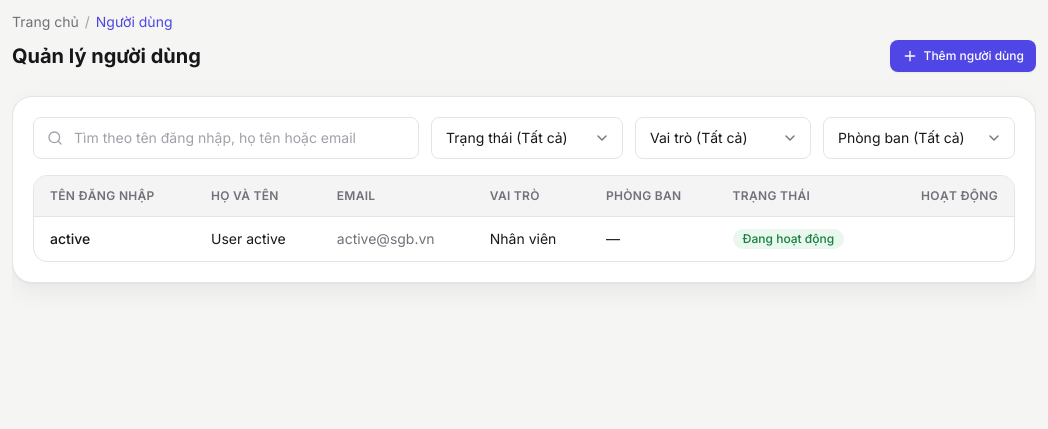
Test case: Dọn thùng rác (Admin, đang lọc "Đã xóa"): xoá vĩnh viễn toàn bộ người dùng đang hiển thị
This screenshot has width=1048, height=429.
Check: the text "active" is shown, box x1=50 y1=230 x2=90 y2=247
Step 1. Select "Đã xóa" in the 1st dropdown → (527, 138), box x1=431 y1=117 x2=623 y2=159
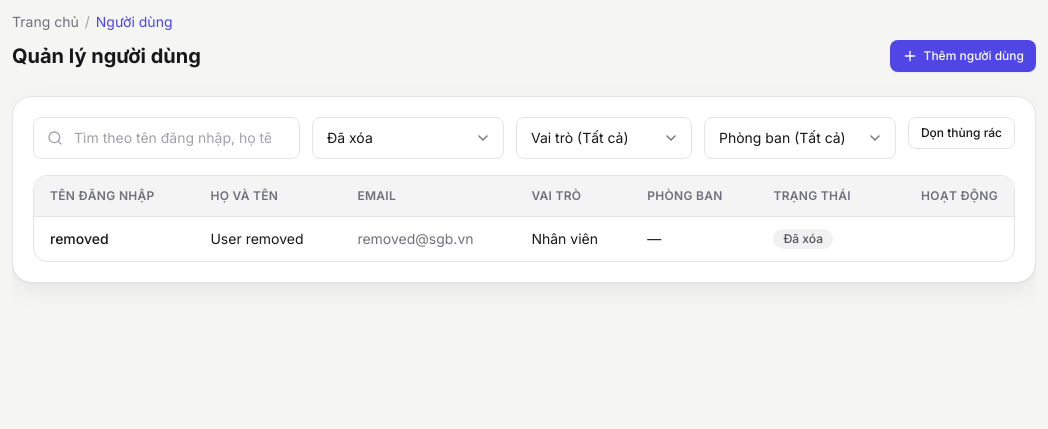
Check: the text "removed" is shown, box x1=50 y1=230 x2=109 y2=247
Step 2. Click the button "Dọn thùng rác" → (962, 133), box x1=908 y1=117 x2=1015 y2=149
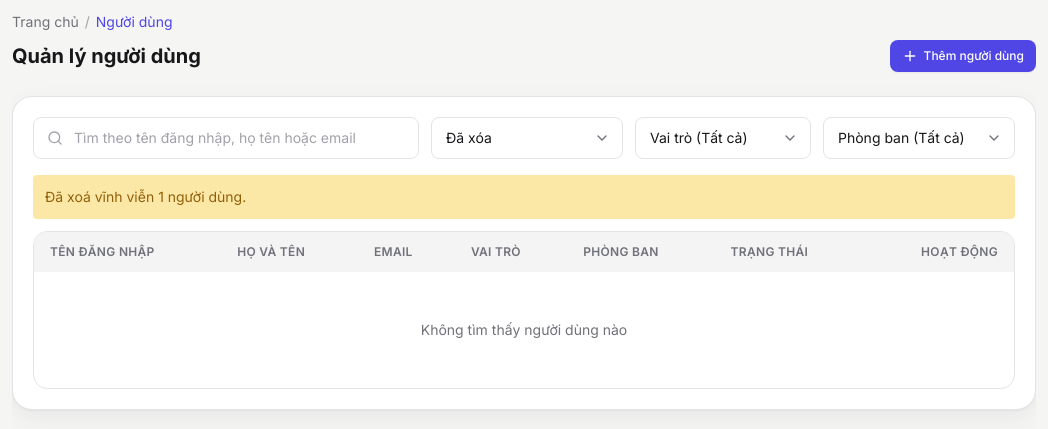
Check: the text "Không tìm thấy người dùng nào" is shown, box x1=34 y1=272 x2=1014 y2=388
